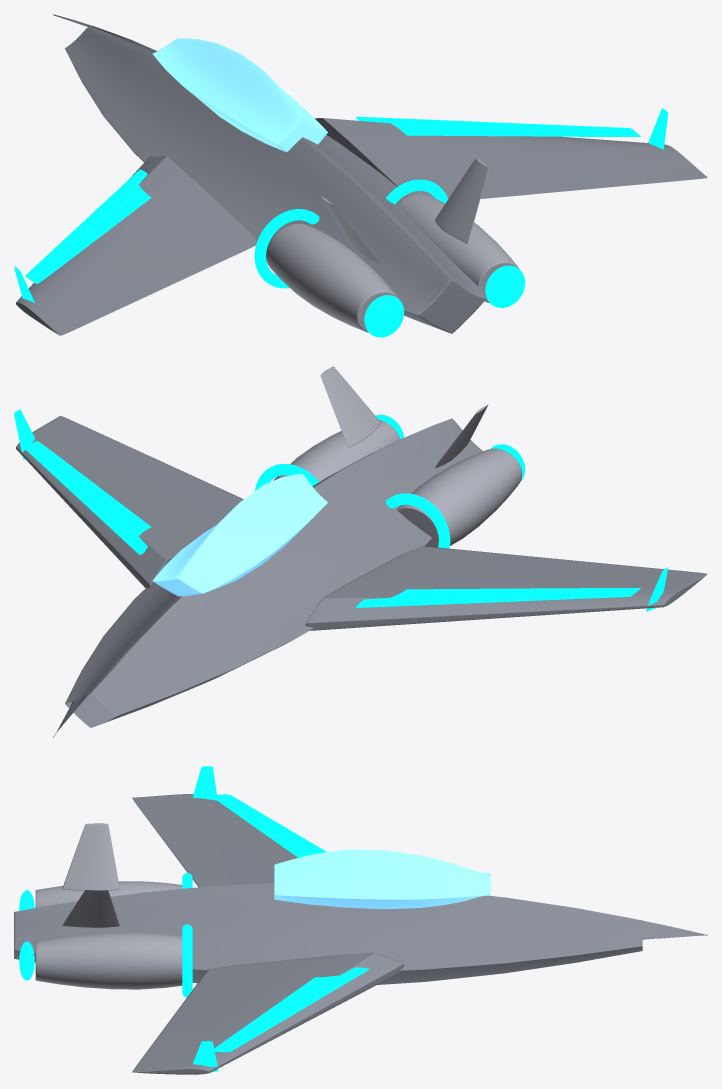
Rendered from ship_tier2_falcon.glb.
3 views of the same model, one above another, from view 1: azimuth 30°, elevation 25°; view 2: azimuth 150°, elevation 25°; view 3: azimuth 270°, elevation 25° (orthographic). The views are drawn at different scales.
Visible parts, largest first — view 1: Ship_Falcon; view 2: Ship_Falcon; view 3: Ship_Falcon.
Boxes of the visible parts, box(x1,y1,x2,y2) form: Ship_Falcon: box(14, 14, 707, 337); Ship_Falcon: box(14, 366, 707, 737); Ship_Falcon: box(14, 766, 707, 1074).
Bounding box in the file's own units: 1.5 × 0.3511 × 1.6.
